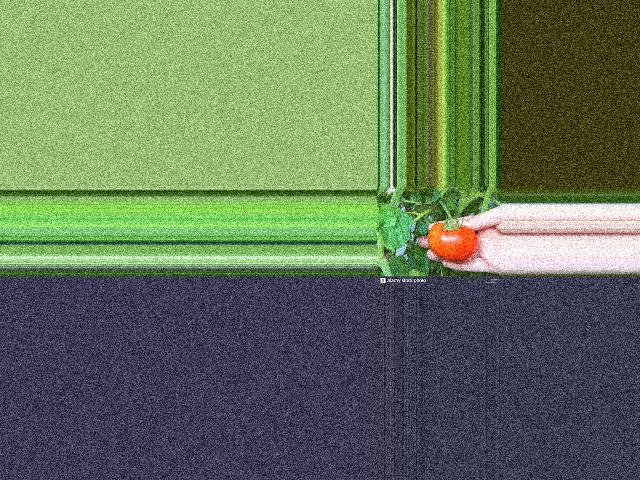tomato: (428, 223, 479, 262)
